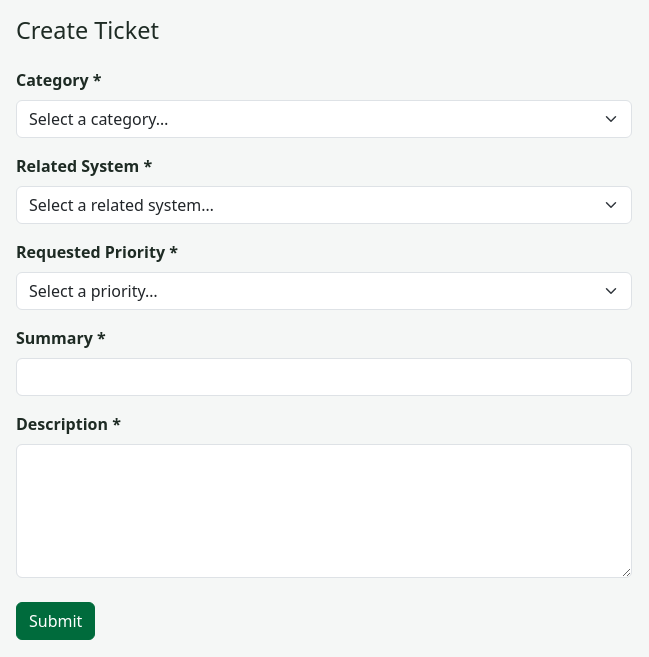
Test: CreateTicket › shows the generated ticket number on success
The image size is (649, 657).
Select "Hardware" in the dropdown labelled "Category *" at [324, 119], box 16,100 -> 632,138
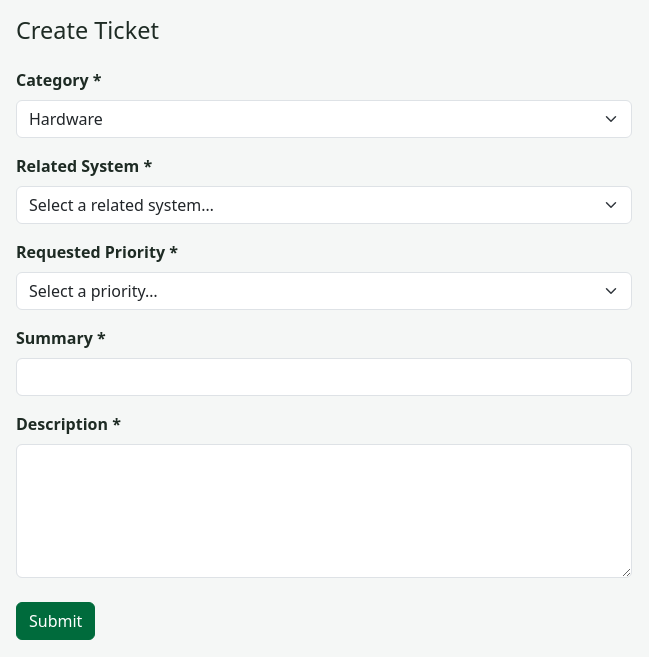
Select "Corporate Laptop" in the dropdown labelled "Related System *" at [324, 205], box 16,186 -> 632,224
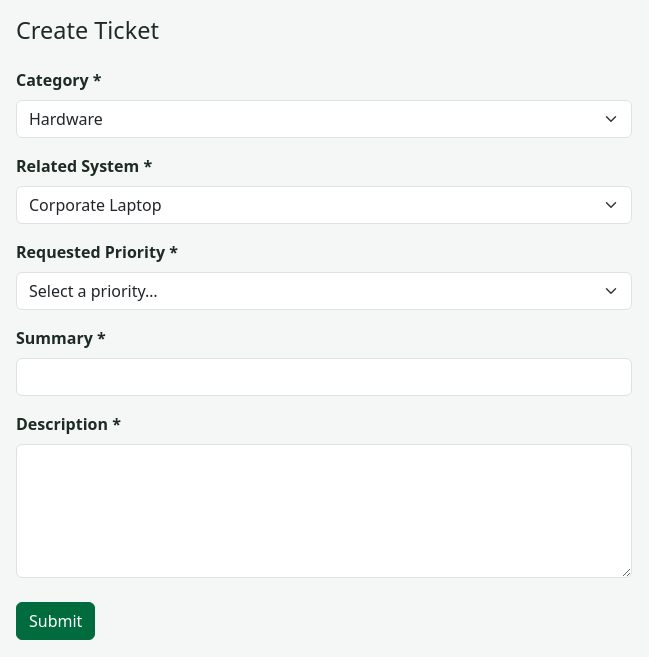
Select "Medium" in the dropdown labelled "Requested Priority *" at [324, 291], box 16,272 -> 632,310
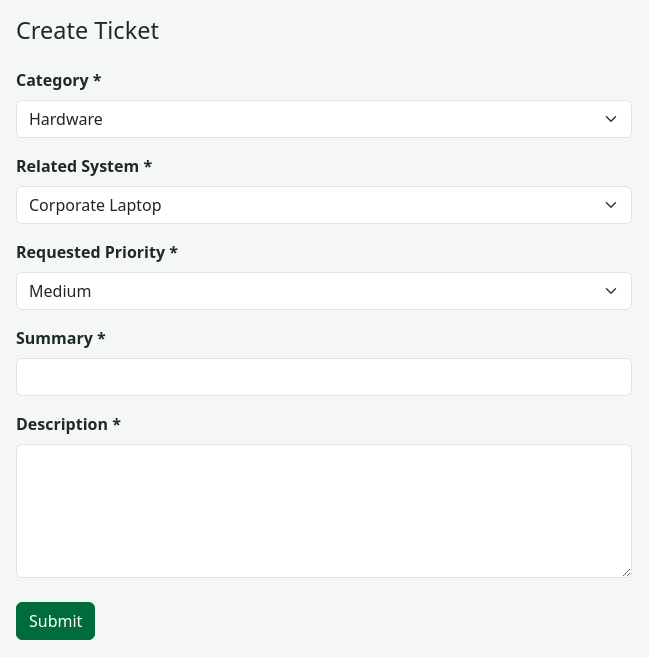
Type "Laptop battery drains quickly" into the field labelled "Summary *".
click(324, 377); type("Laptop battery drains quickly")  # box 16,358 -> 632,396
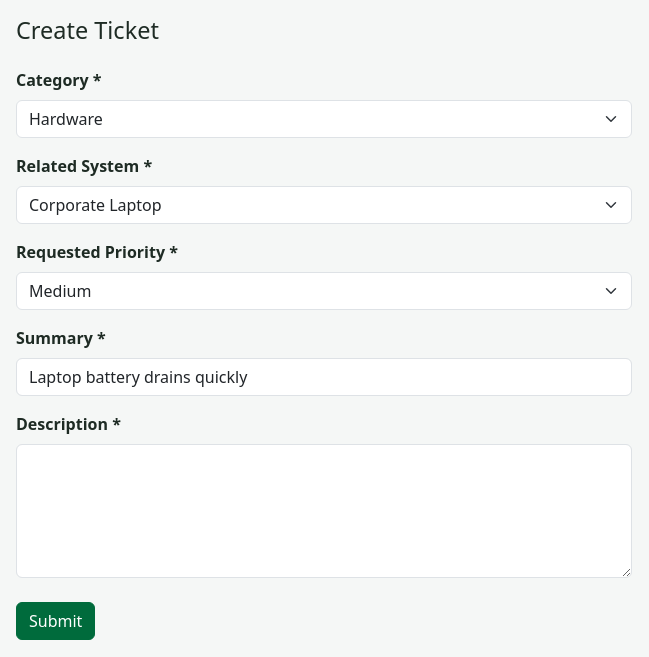
Type "Battery drains much faster than usual even when the system is idle." into the text box labelled "Description *".
click(324, 511); type("Battery drains much faster than usual even when the system is idle.")  # box 16,444 -> 632,578
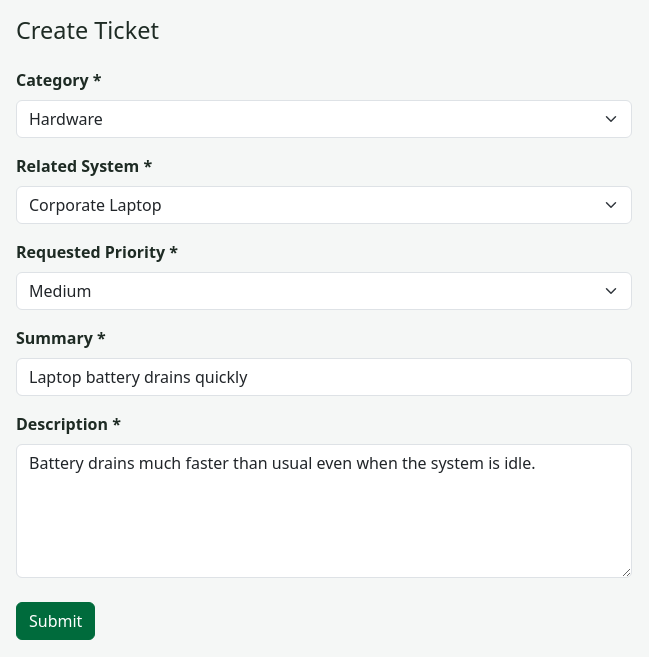
Click the button "Submit".
click(56, 621)  # box 16,602 -> 95,640
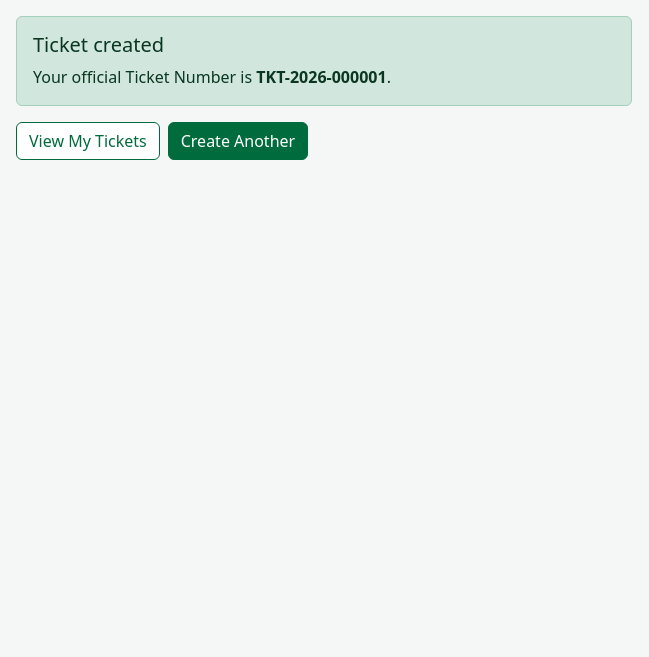
Check: the text "TKT-2026-000001" is shown, box 256,66 -> 387,88
